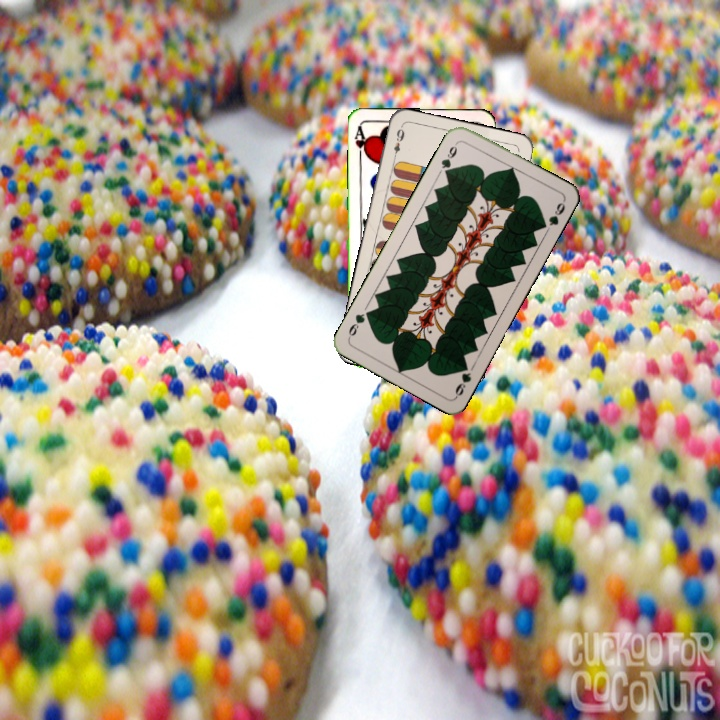E9: (389, 123, 407, 163)
G9: (451, 359, 474, 400), (437, 138, 460, 178)
HA: (351, 123, 371, 163)
